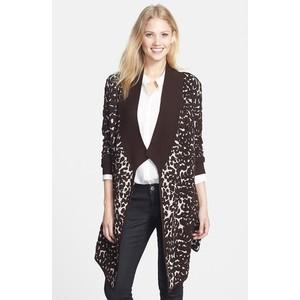C_cardigan sweater: (74, 67, 212, 286)
